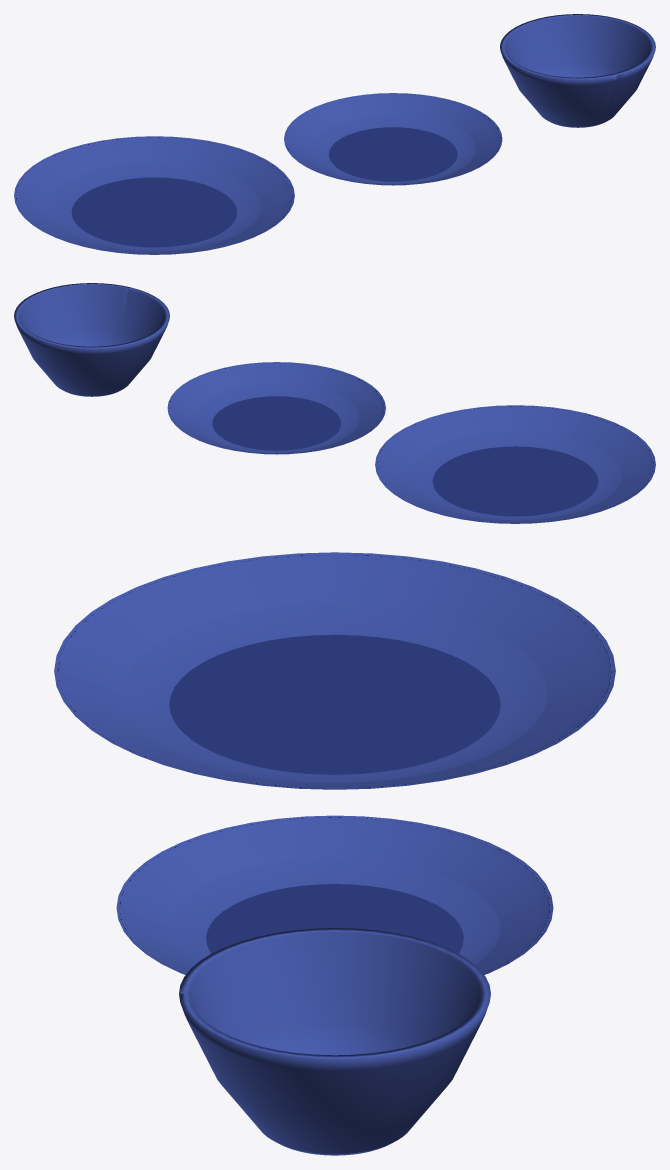
3 views of the same model, one above another, from view 1: azimuth 30°, elevation 25°; view 2: azimuth 150°, elevation 25°; view 3: azimuth 270°, elevation 25° (orthographic). The views are drawn at different scales.
Bounding box in the file's own units: 0.68 × 0.07 × 0.27.
